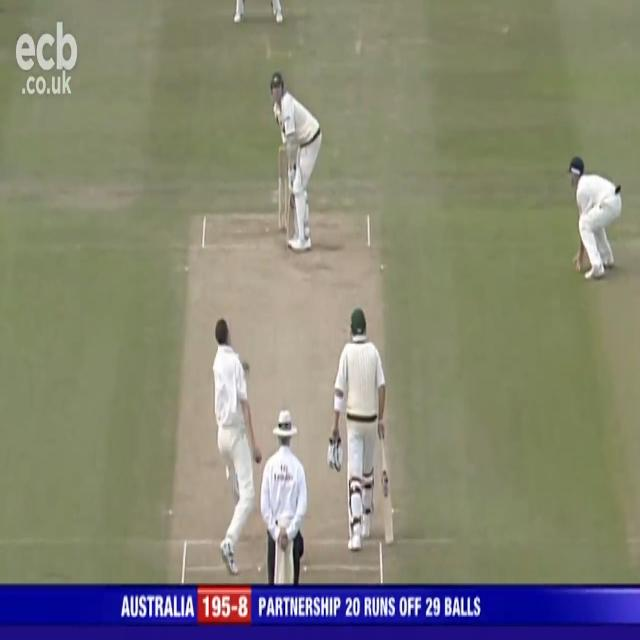ball: (257, 456, 262, 464)
